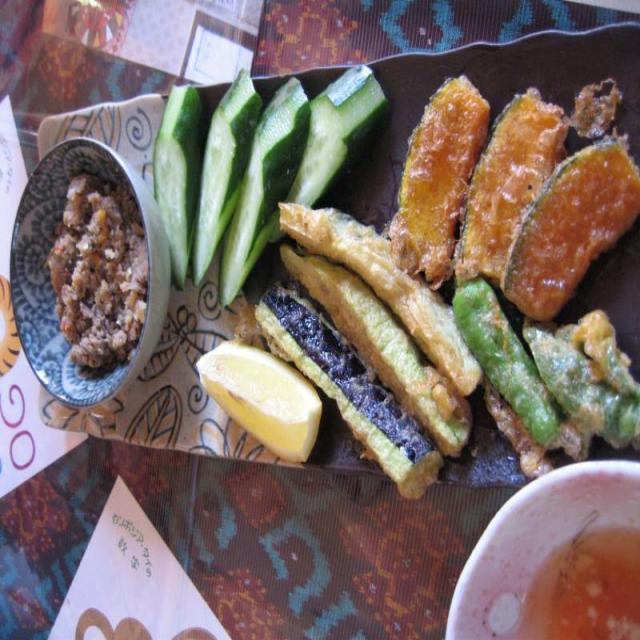蔬菜料理: (266, 58, 640, 488)
